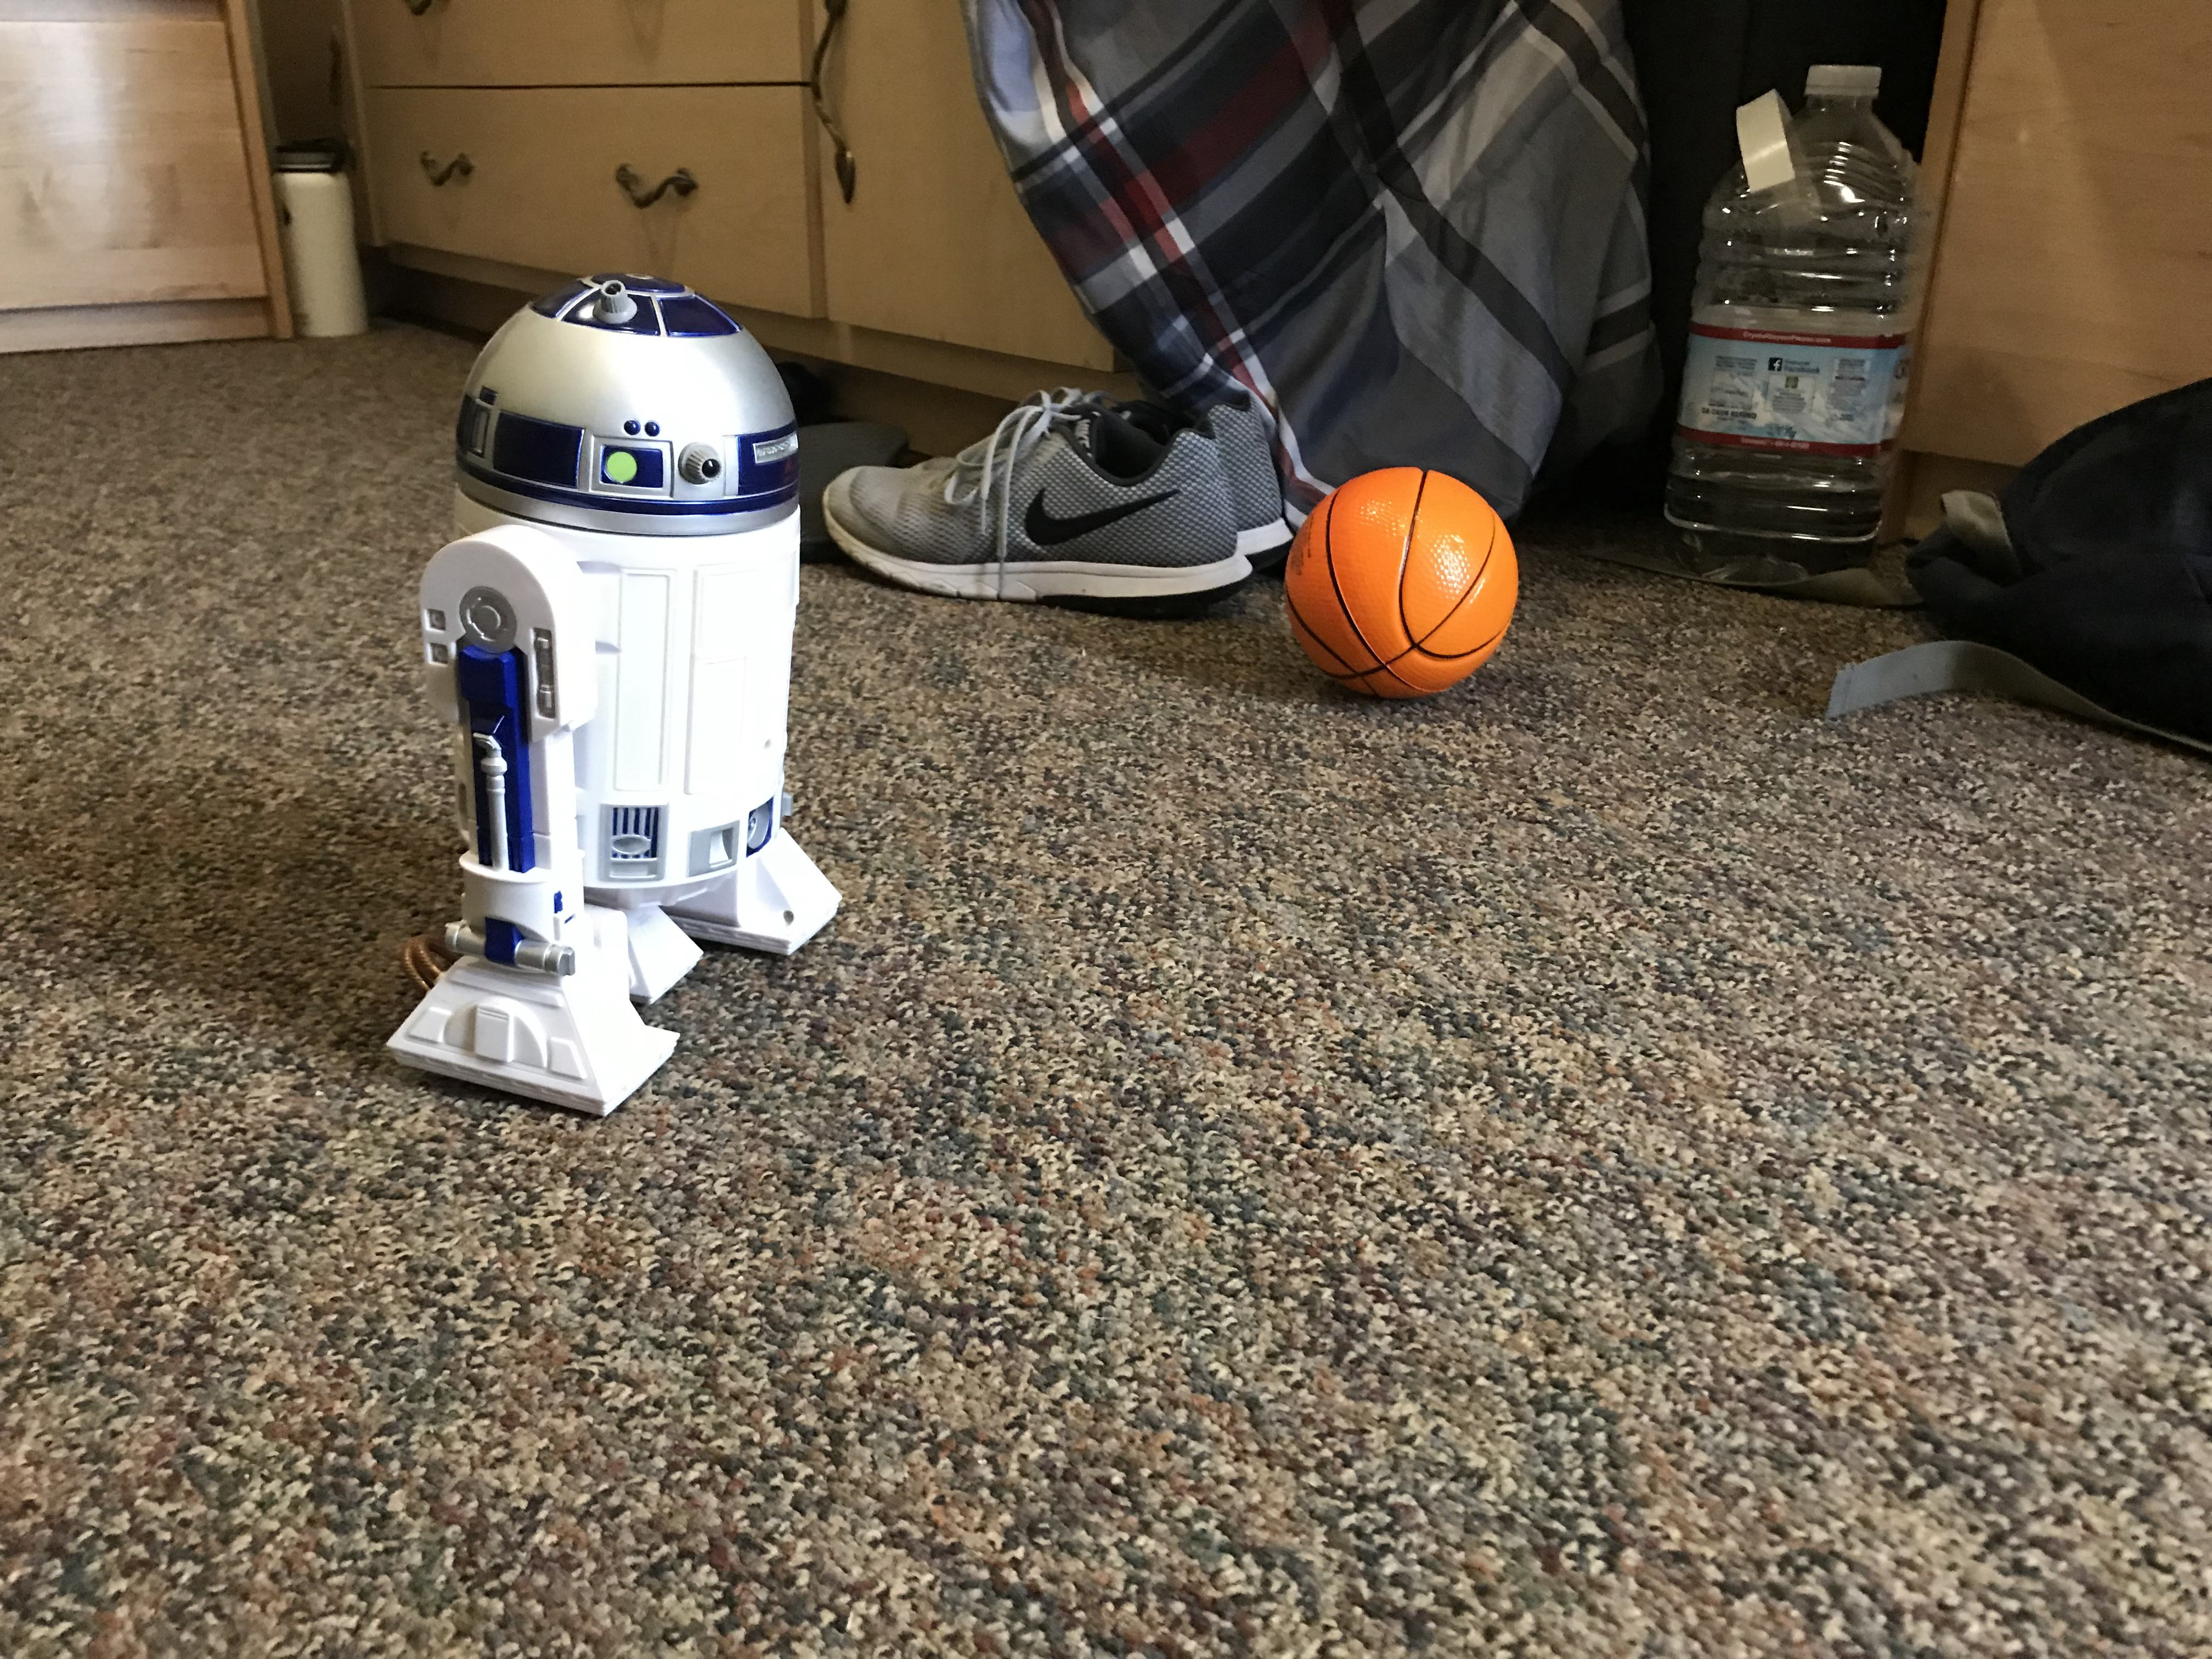r2d2: (383, 268, 845, 1112)
